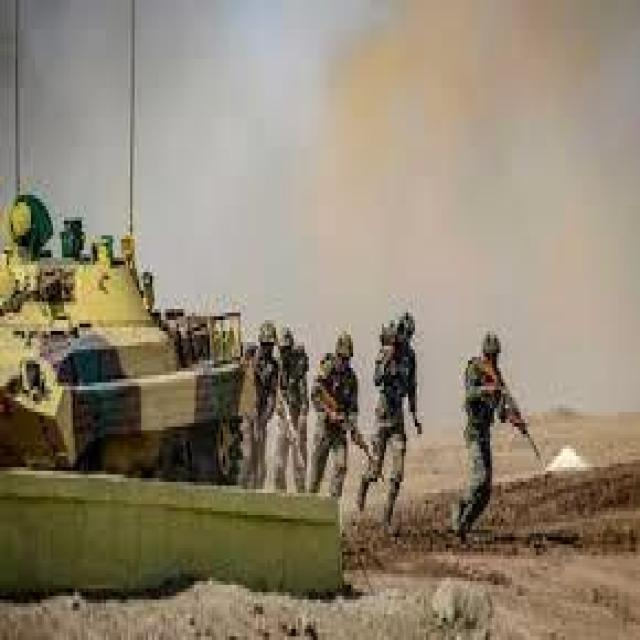Tanks: (7, 219, 240, 465)
